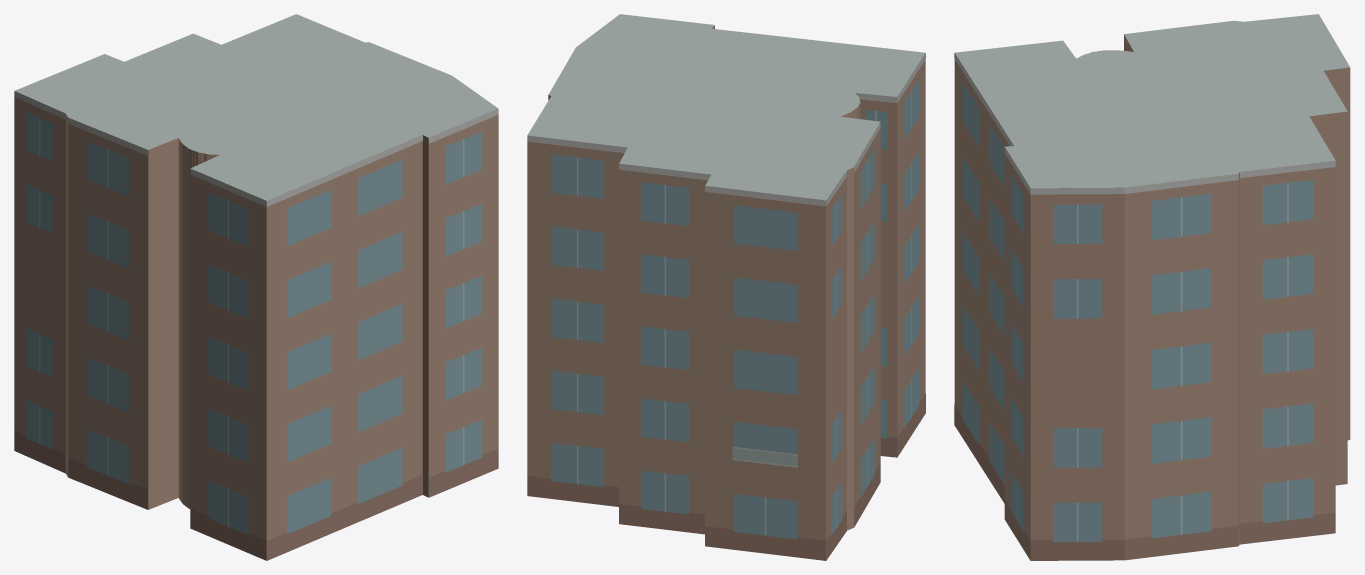
The model's file is survey-upis-32671576.glb.
3 views of the same model, side by side, from view 1: azimuth 30°, elevation 25°; view 2: azimuth 150°, elevation 25°; view 3: azimuth 270°, elevation 25° (orthographic). The views are drawn at different scales.
Visible parts, largest first — view 1: survey-upis-32671576.tmp; view 2: survey-upis-32671576.tmp; view 3: survey-upis-32671576.tmp.
Part boxes in pixels (x1,y1,x2,y2): survey-upis-32671576.tmp: (14,14,498,560); survey-upis-32671576.tmp: (527,14,925,560); survey-upis-32671576.tmp: (954,14,1350,560).
Size of the model in its own units: 14.36 by 14.3 by 13.78.
